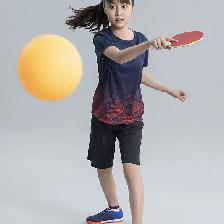YellowBall: (15, 33, 82, 100)
